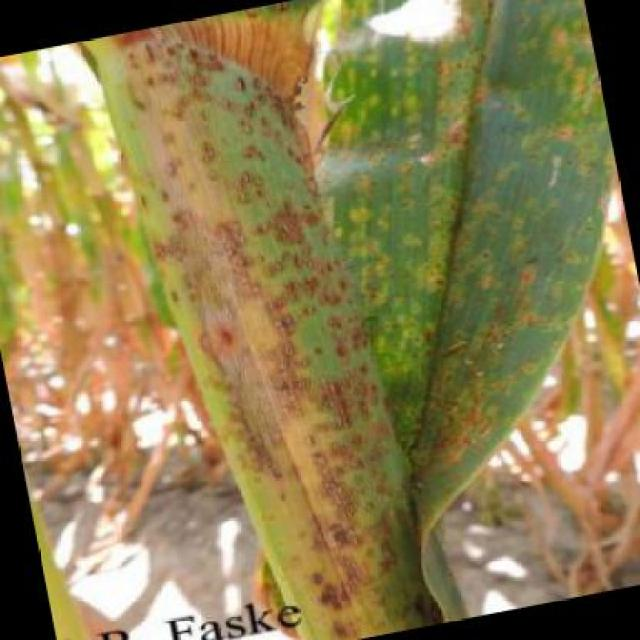Corn_Rust: (97, 74, 418, 560)
